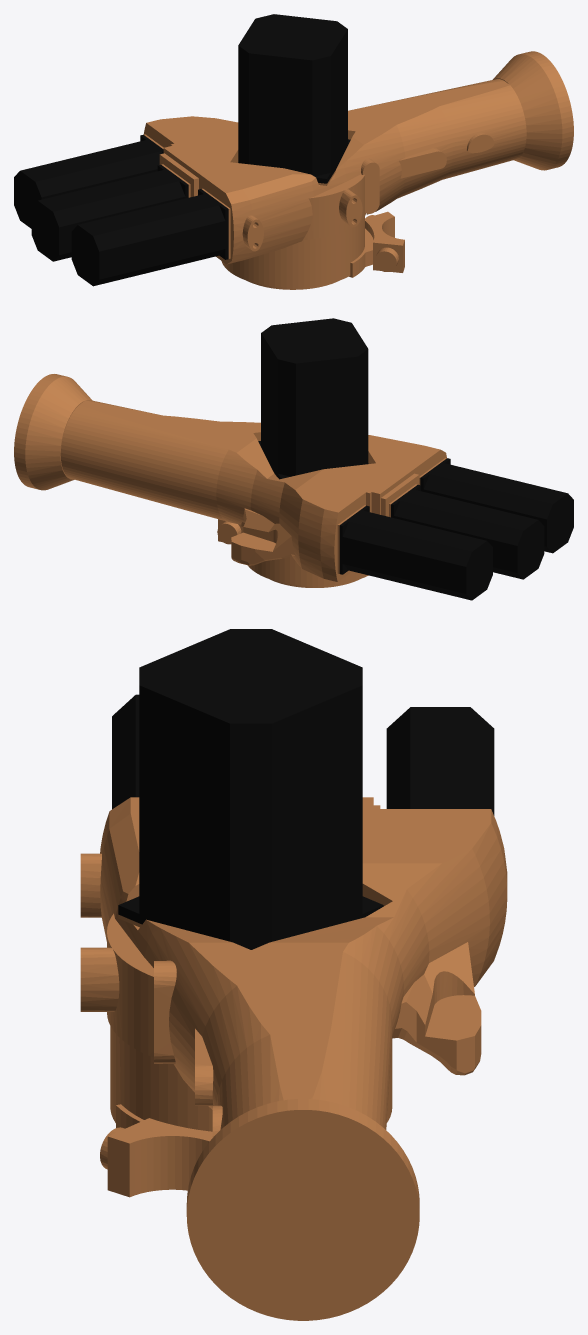
3 views of the same model, one above another, from view 1: azimuth 30°, elevation 25°; view 2: azimuth 150°, elevation 25°; view 3: azimuth 270°, elevation 25° (orthographic). The views are drawn at different scales.
Parts seen in each view (by area): view 1: /Link_3/Link_3_001-mesh/0, /Link_3_Motor4/Link_3_Motor4_001-mesh/0, /Link_3_Motor3/Link_3_Motor3_001-mesh/0, /Link_3_Motor2/Link_3_Motor2_001-mesh/0, /Link_3_Motor1/Link_3_Motor1_001-mesh/0; view 2: /Link_3/Link_3_001-mesh/0, /Link_3_Motor4/Link_3_Motor4_001-mesh/0, /Link_3_Motor1/Link_3_Motor1_001-mesh/0, /Link_3_Motor2/Link_3_Motor2_001-mesh/0, /Link_3_Motor3/Link_3_Motor3_001-mesh/0; view 3: /Link_3/Link_3_001-mesh/0, /Link_3_Motor4/Link_3_Motor4_001-mesh/0, /Link_3_Motor1/Link_3_Motor1_001-mesh/0, /Link_3_Motor3/Link_3_Motor3_001-mesh/0.
Boxes of the visible parts, bbox=[...] form: /Link_3/Link_3_001-mesh/0: bbox=[143, 51, 573, 289]; /Link_3_Motor4/Link_3_Motor4_001-mesh/0: bbox=[238, 14, 350, 183]; /Link_3_Motor3/Link_3_Motor3_001-mesh/0: bbox=[71, 189, 228, 286]; /Link_3_Motor2/Link_3_Motor2_001-mesh/0: bbox=[31, 164, 188, 261]; /Link_3_Motor1/Link_3_Motor1_001-mesh/0: bbox=[14, 134, 163, 228]; /Link_3/Link_3_001-mesh/0: bbox=[14, 374, 446, 587]; /Link_3_Motor4/Link_3_Motor4_001-mesh/0: bbox=[258, 318, 368, 479]; /Link_3_Motor1/Link_3_Motor1_001-mesh/0: bbox=[339, 505, 492, 600]; /Link_3_Motor2/Link_3_Motor2_001-mesh/0: bbox=[391, 484, 544, 579]; /Link_3_Motor3/Link_3_Motor3_001-mesh/0: bbox=[420, 458, 573, 553]; /Link_3/Link_3_001-mesh/0: bbox=[80, 797, 507, 1320]; /Link_3_Motor4/Link_3_Motor4_001-mesh/0: bbox=[118, 629, 383, 949]; /Link_3_Motor1/Link_3_Motor1_001-mesh/0: bbox=[386, 707, 494, 815]; /Link_3_Motor3/Link_3_Motor3_001-mesh/0: bbox=[112, 694, 139, 809].
Bounding box in the file's own units: 0.7589 × 0.33 × 0.2875.
